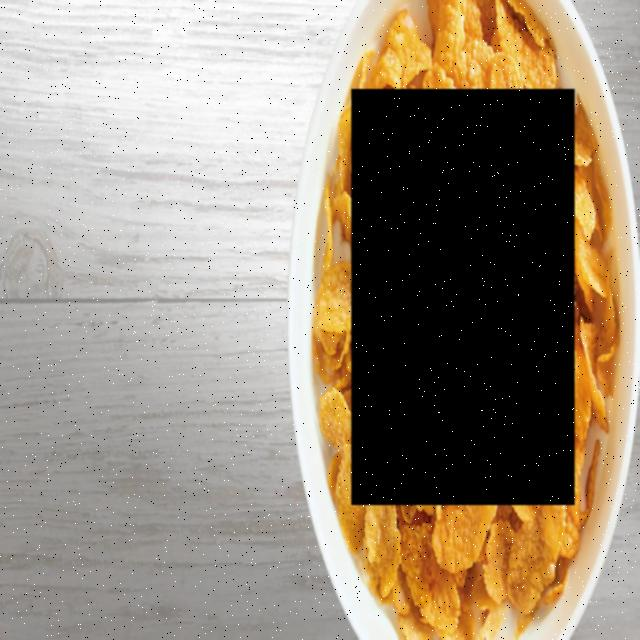Cornflakes: (351, 90, 575, 506)
